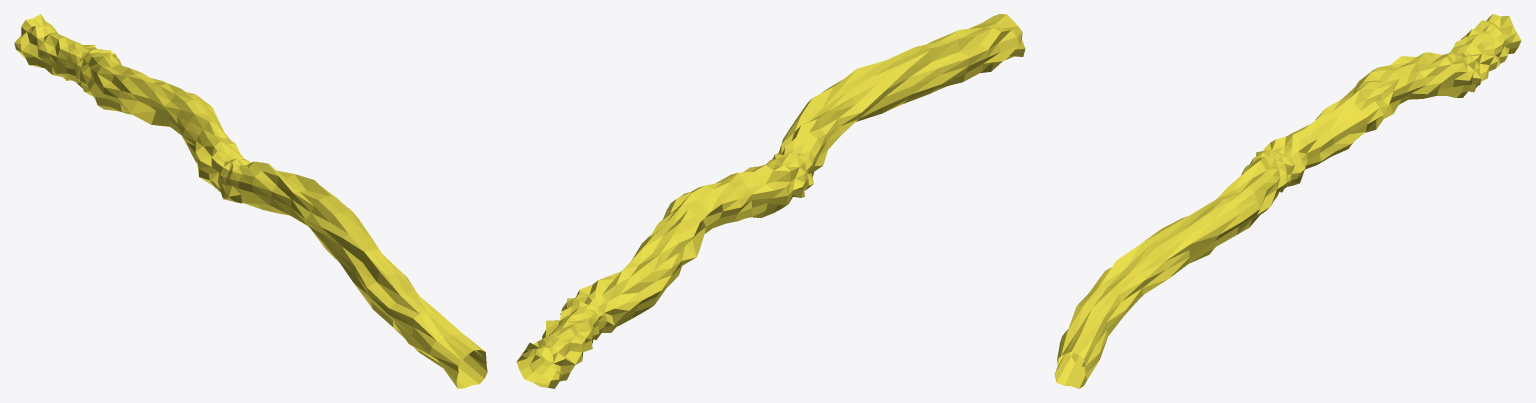
The model's file is Cave_Easy_1.fbx.
3 renders of one model, left to right at view 1: azimuth 30°, elevation 25°; view 2: azimuth 150°, elevation 25°; view 3: azimuth 330°, elevation 25°, orthographic. The views are drawn at different scales.
Parts seen in each view (by area): view 1: Cube; view 2: Cube; view 3: Cube.
Boxes of the visible parts, bbox=[...] form: Cube: bbox=[14, 14, 487, 388]; Cube: bbox=[516, 14, 1025, 388]; Cube: bbox=[1054, 14, 1521, 388].
Bounding box in the file's own units: 378 × 4439 × 482.
